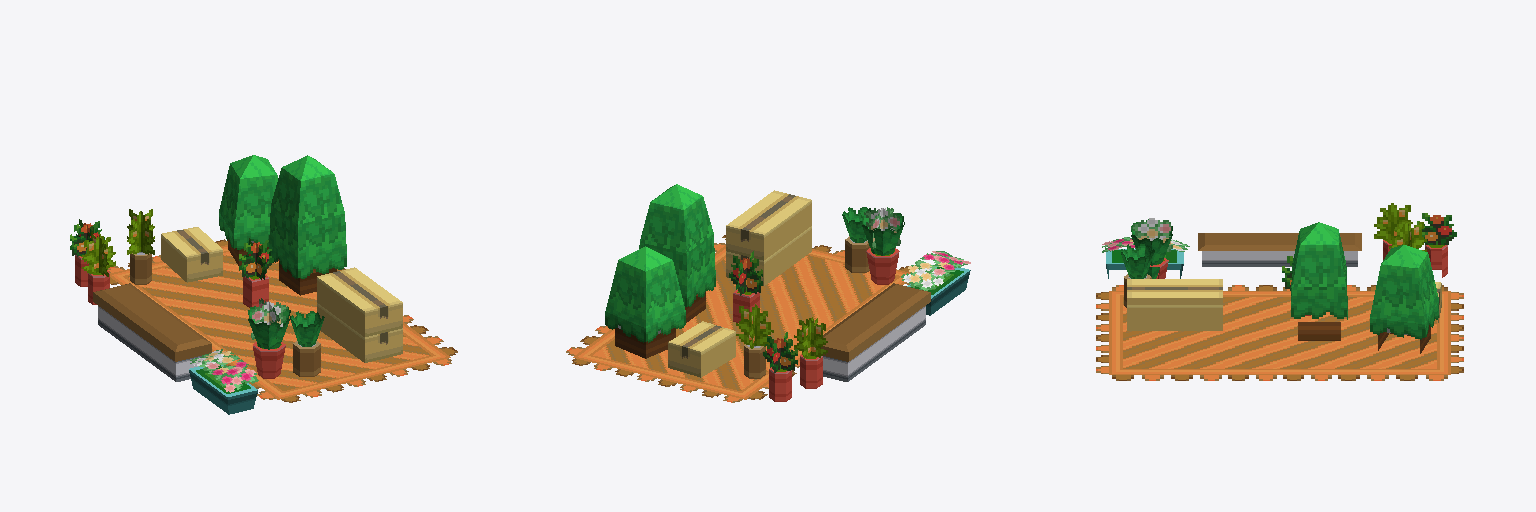
3 views of the same model, side by side, from view 1: azimuth 30°, elevation 25°; view 2: azimuth 150°, elevation 25°; view 3: azimuth 270°, elevation 25° (orthographic).
Visible parts, largest first — view 1: polygon1; view 2: polygon1; view 3: polygon1.
Part boxes in pixels (left/top/right/bottom): polygon1: left=70, top=155, right=457, bottom=414; polygon1: left=566, top=184, right=970, bottom=402; polygon1: left=1096, top=203, right=1463, bottom=380.
Bounding box in the file's own units: 9.87 × 5.34 × 13.
Materials: 3 (2 with a texture image).